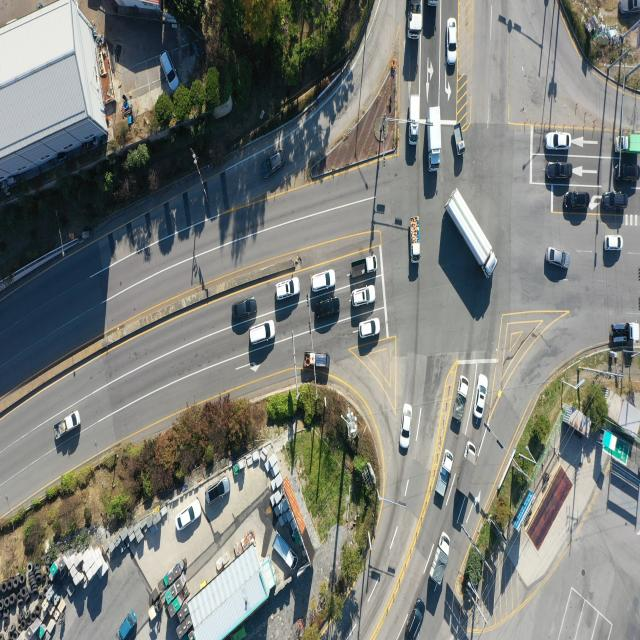car: (174, 500, 201, 532), (406, 598, 426, 640), (262, 151, 286, 181), (160, 52, 178, 92), (250, 320, 277, 346), (207, 478, 231, 506), (399, 403, 412, 451), (313, 298, 339, 322), (276, 277, 301, 301), (476, 374, 489, 418), (232, 299, 258, 321), (310, 271, 334, 293), (546, 132, 572, 152), (615, 162, 640, 182), (548, 161, 574, 180), (350, 286, 374, 306), (602, 193, 627, 212), (447, 19, 457, 66), (358, 318, 380, 339), (547, 248, 570, 268), (567, 190, 590, 210), (364, 316, 386, 336), (452, 125, 463, 155), (620, 0, 640, 14), (606, 236, 624, 251)
medium_truck: (449, 189, 498, 280), (426, 106, 443, 173), (407, 0, 422, 40)
small_truck: (430, 528, 452, 582), (458, 444, 478, 499), (436, 449, 455, 499), (273, 533, 297, 571), (53, 410, 81, 441), (410, 93, 422, 145), (613, 323, 640, 346), (115, 611, 136, 640), (350, 257, 377, 279), (410, 215, 422, 263), (618, 133, 640, 156), (305, 351, 331, 370), (456, 376, 469, 414)
